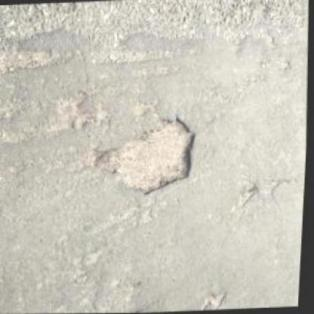Hueco: (94, 112, 201, 200), (238, 186, 260, 208)
